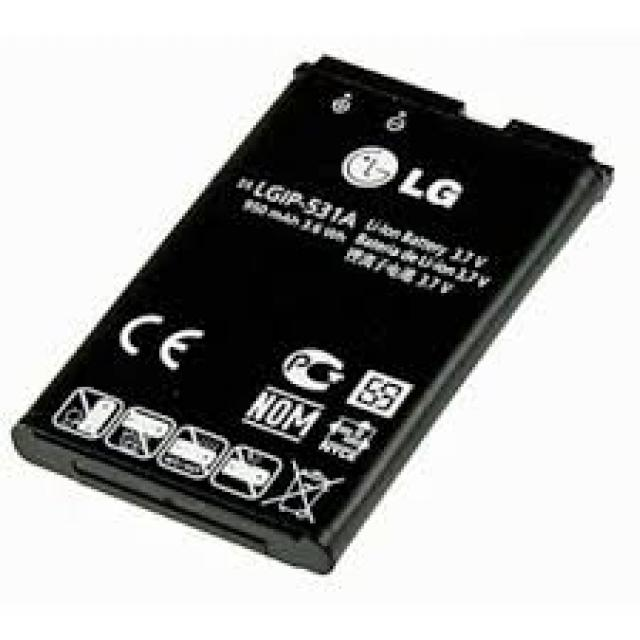non-organic waste: (13, 50, 612, 574)
